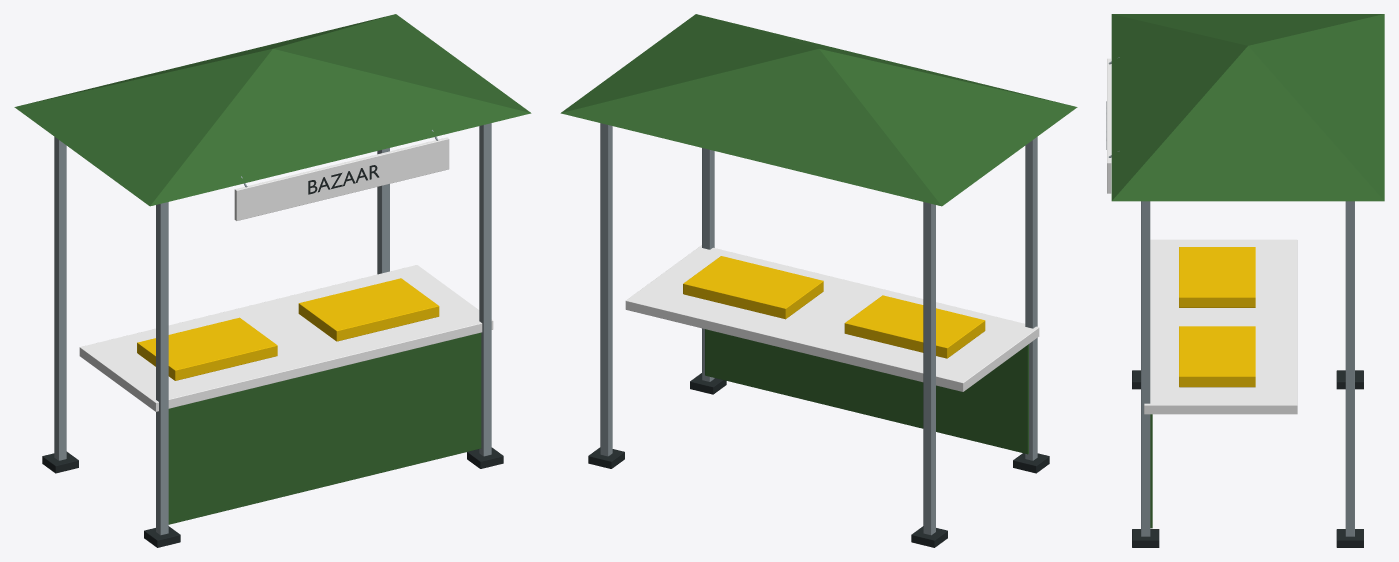
File: hari-raya-bazaar-stall.glb
The picture shows the model from 3 angles, left to right: view 1: azimuth 30°, elevation 25°; view 2: azimuth 150°, elevation 25°; view 3: azimuth 270°, elevation 25°; orthographic projection.
Parts seen in each view (by area): view 1: Awning, Front_Apron, Counter, Signboard, Empty_Display_Tray.001, Empty_Display_Tray, Leg, Leg.001, Leg.002, Leg.003; view 2: Awning, Counter, Front_Apron, Empty_Display_Tray.001, Empty_Display_Tray, Leg.003, Leg.001, Leg, Leg.002; view 3: Awning, Counter, Empty_Display_Tray.001, Empty_Display_Tray, Leg.003, Leg.002, Signboard, Foot.002, Foot.003, Foot.001.
Part boxes in pixels (<box>): Awning: <box>14,14,531,206</box>; Front_Apron: <box>168,332,481,524</box>; Counter: <box>79,265,493,411</box>; Signboard: <box>234,137,449,220</box>; Empty_Display_Tray.001: <box>298,278,439,341</box>; Empty_Display_Tray: <box>137,317,277,380</box>; Leg: <box>156,202,168,535</box>; Leg.001: <box>54,137,66,460</box>; Leg.002: <box>479,123,491,456</box>; Leg.003: <box>377,148,389,274</box>; Awning: <box>560,14,1077,206</box>; Counter: <box>625,245,1039,391</box>; Front_Apron: <box>705,329,1028,454</box>; Empty_Display_Tray.001: <box>683,256,823,319</box>; Empty_Display_Tray: <box>844,295,985,358</box>; Leg.003: <box>600,123,612,456</box>; Leg.001: <box>923,202,935,535</box>; Leg: <box>1025,137,1037,460</box>; Leg.002: <box>702,148,714,381</box>; Awning: <box>1111,14,1384,201</box>; Counter: <box>1144,239,1297,414</box>; Empty_Display_Tray.001: <box>1179,326,1255,387</box>; Empty_Display_Tray: <box>1179,247,1255,307</box>; Leg.003: <box>1345,201,1354,536</box>; Leg.002: <box>1141,201,1150,536</box>; Signboard: <box>1107,58,1111,193</box>; Foot.002: <box>1132,529,1159,547</box>; Foot.003: <box>1336,529,1363,547</box>; Foot.001: <box>1336,370,1363,389</box>.
Size of the model in its own units: 2.6 by 2.7 by 1.63.
